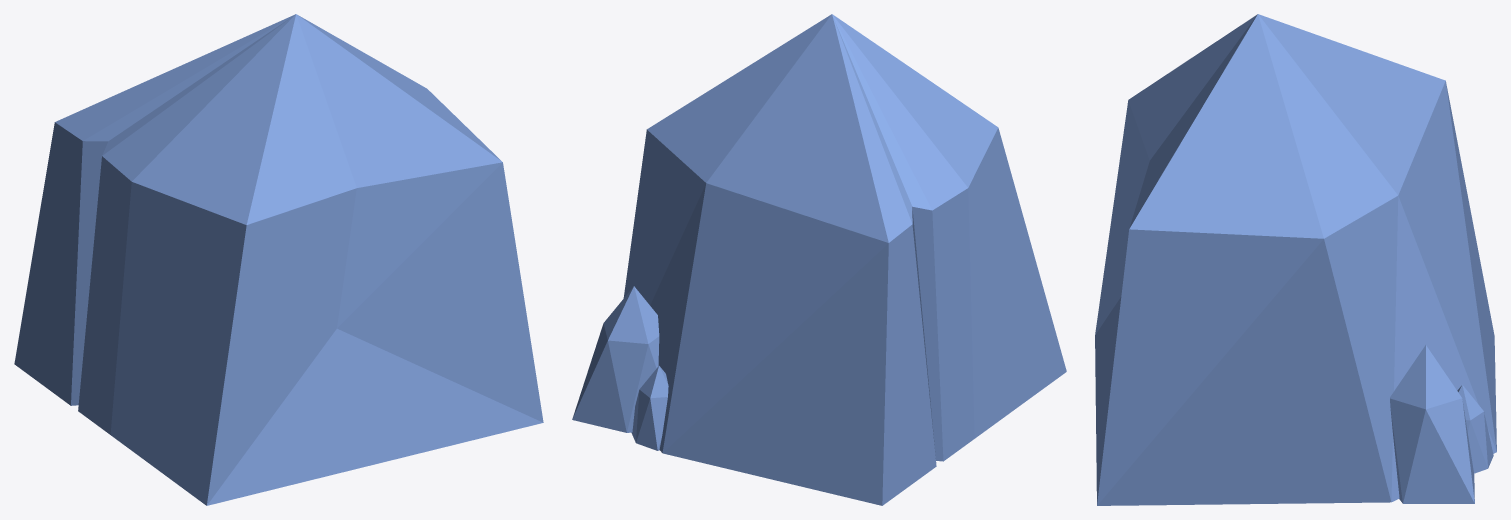
The model's file is Glass.0.1.fbx.
3 renders of one model, left to right at view 1: azimuth 30°, elevation 25°; view 2: azimuth 150°, elevation 25°; view 3: azimuth 270°, elevation 25°, orthographic. The views are drawn at different scales.
Parts seen in each view (by area): view 1: Icosphere; view 2: Icosphere; view 3: Icosphere.
Part boxes in pixels (box(x1,y1,x2,y2)): Icosphere: box(14, 14, 543, 505); Icosphere: box(572, 14, 1066, 505); Icosphere: box(1095, 14, 1496, 505).
Size of the model in its own units: 200 by 223 by 200.
